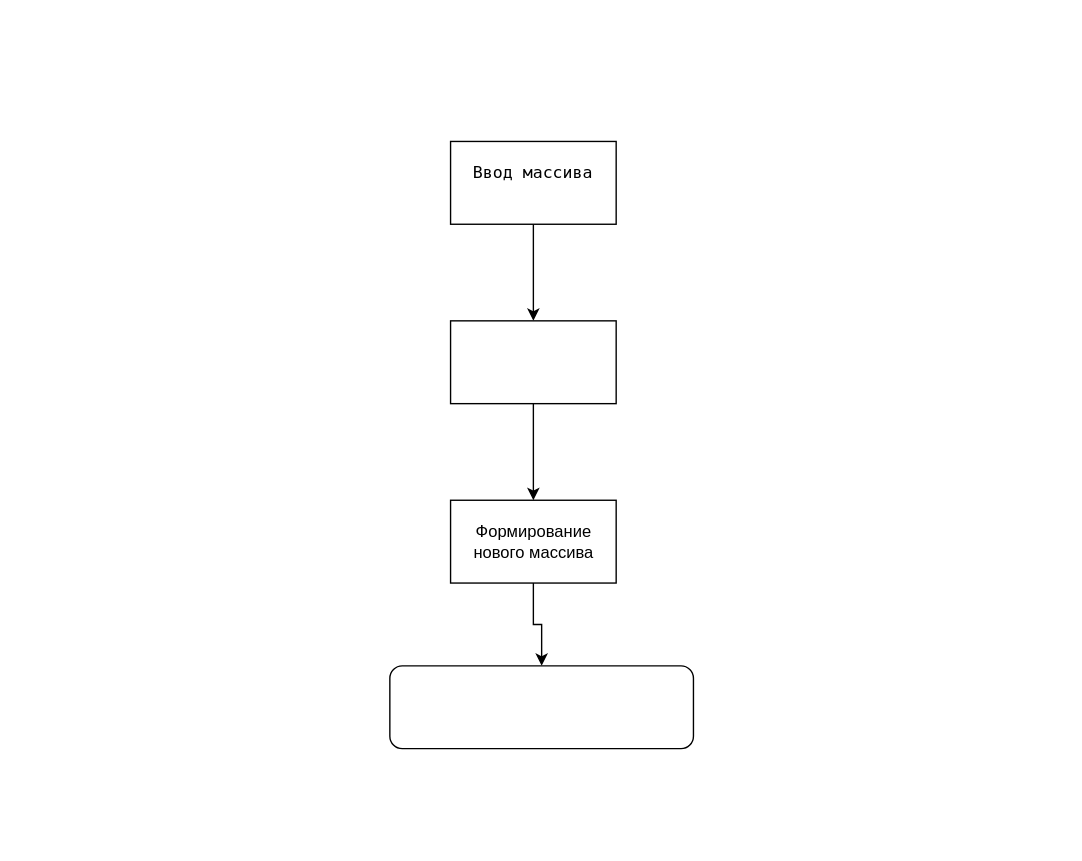
This 1082x861 diagram has some shape labels left out. The centre of each missing label's shape, as x and y in pixels:
Вывод результата: pixel 540 706
Фильтрация строк: pixel 532 361
